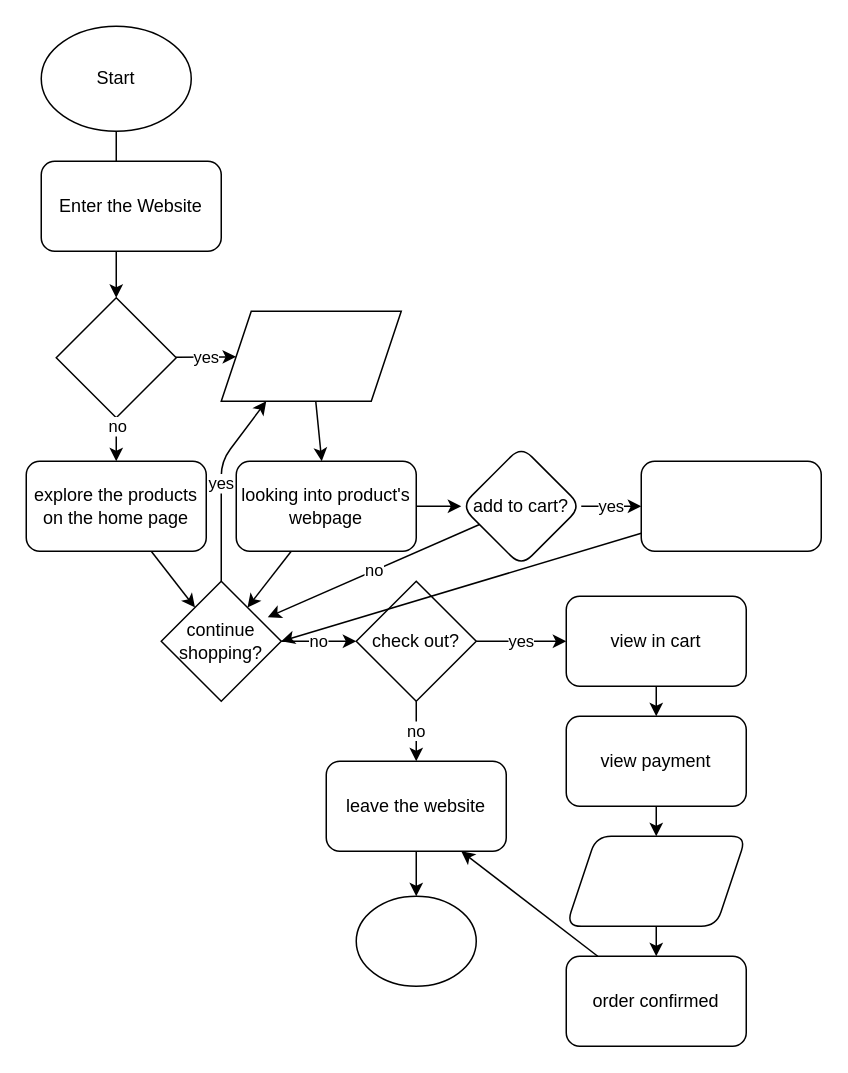
Image size: 848x1073. Some labels were removed from this diagram. The shapes that lost their labels are listed below. From the top down, each one's centre as x and y in pixels, then its label:
At pixel 115 357: "search for a product?".
At pixel 310 355: "input search".
At pixel 730 505: "added to cart comfirmaton".
At pixel 655 880: "input payment information".
At pixel 415 940: "End".
